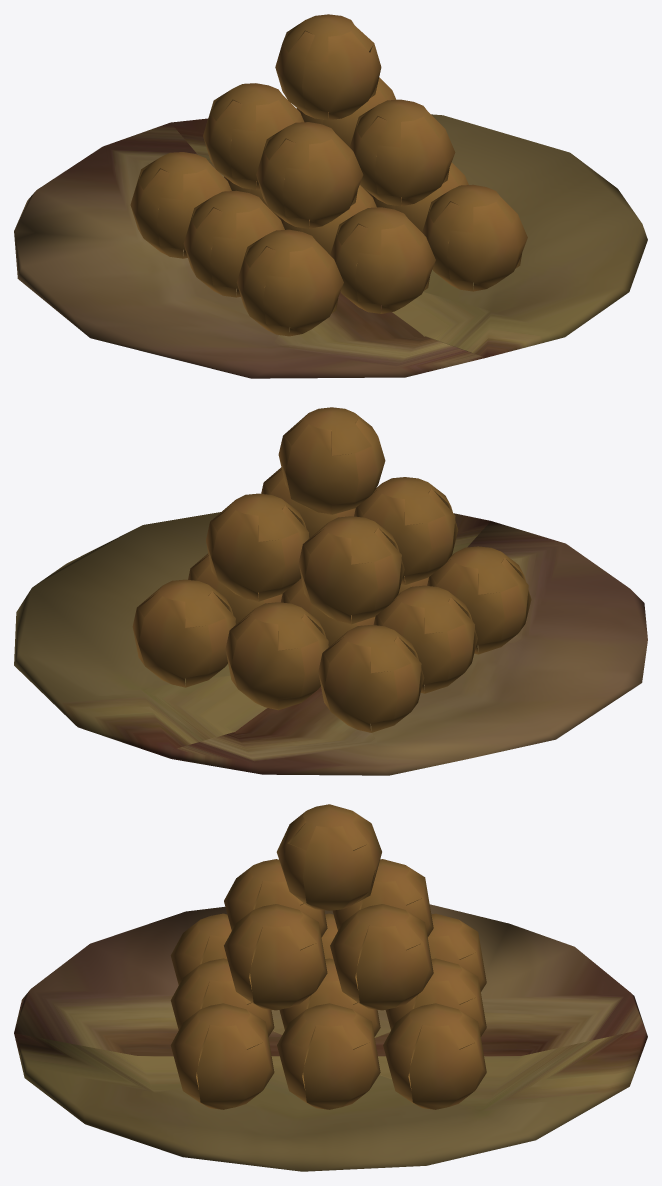
The model's file is FD16_LaddooPile.glb.
3 views of the same model, one above another, from view 1: azimuth 30°, elevation 25°; view 2: azimuth 150°, elevation 25°; view 3: azimuth 270°, elevation 25° (orthographic).
Parts seen in each view (by area): view 1: FD16_LaddooPile; view 2: FD16_LaddooPile; view 3: FD16_LaddooPile.
Part boxes in pixels (bbox=[...]): FD16_LaddooPile: bbox=[14, 14, 647, 378]; FD16_LaddooPile: bbox=[14, 407, 647, 775]; FD16_LaddooPile: bbox=[14, 804, 647, 1171].
Bounding box in the file's own units: 0.2985 × 0.14 × 0.2985.
2 materials, 2 textured.
